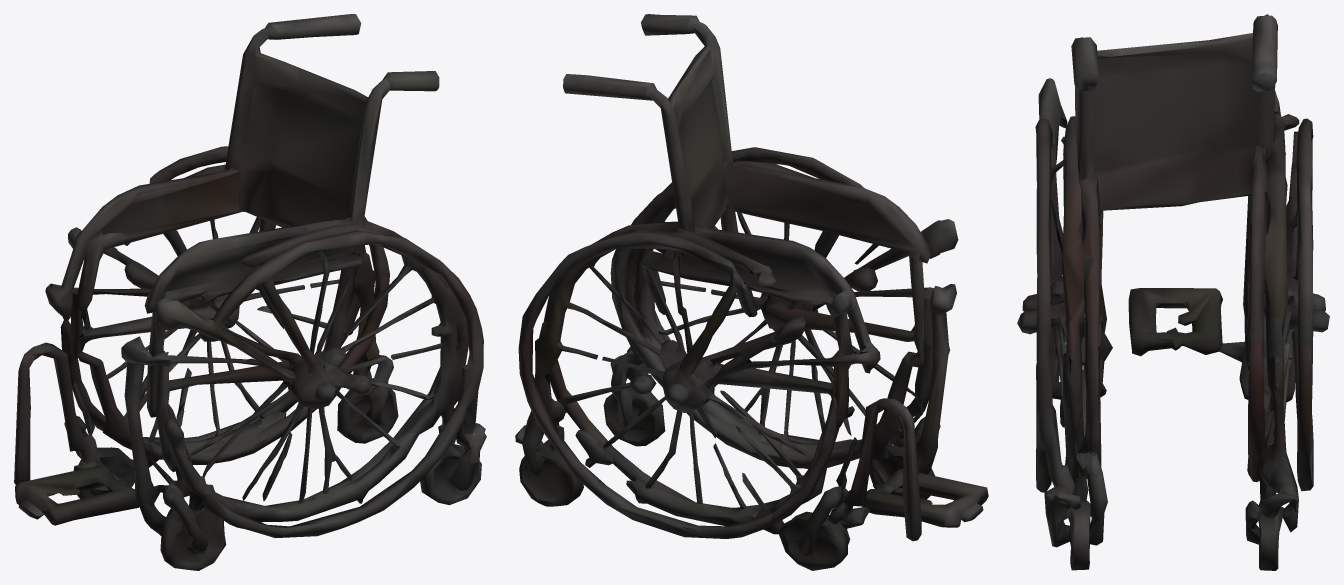
File: simple-iron-wheelchair-v003.glb
3 views of the same model, side by side, from view 1: azimuth 30°, elevation 25°; view 2: azimuth 150°, elevation 25°; view 3: azimuth 270°, elevation 25° (orthographic). The views are drawn at different scales.
Visible parts, largest first — view 1: simple-iron-wheelchair; view 2: simple-iron-wheelchair; view 3: simple-iron-wheelchair.
Boxes of the visible parts, x1=… form: simple-iron-wheelchair: x1=14, y1=14, x2=486, y2=570; simple-iron-wheelchair: x1=515, y1=14, x2=988, y2=570; simple-iron-wheelchair: x1=1017, y1=14, x2=1329, y2=570.
Bounding box in the file's own units: 1.05 × 1.08 × 0.6128.
Materials: 1 (1 with a texture image).
